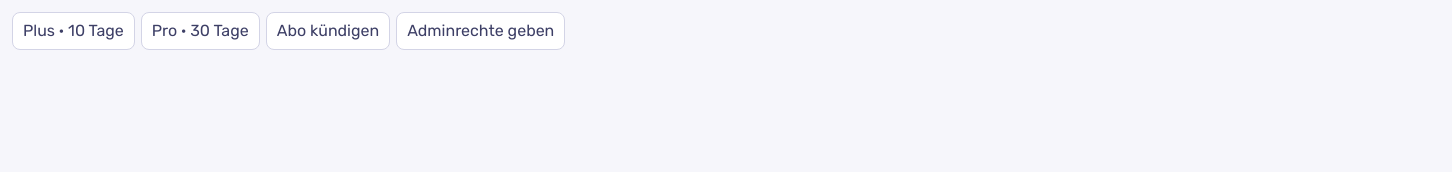
Scenario: admin confirmation — behavioral (render + interaction) › confirming sends EXACTLY ONE request with the right URL and body
Click the button "Abo kündigen". click: (328, 31)
box: [266,12,390,50]
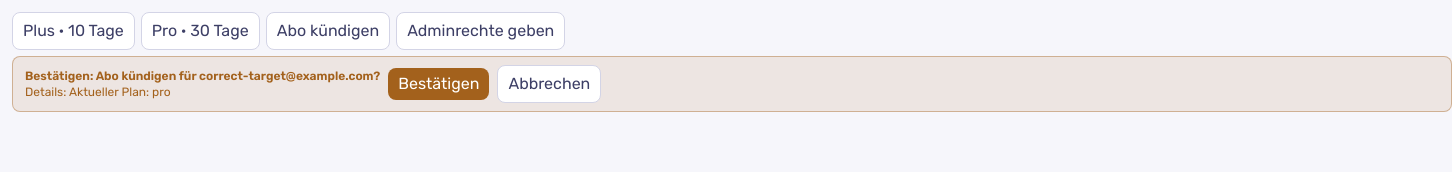
Result: the text "correct-target@example.com" is shown at [25,69,380,83]
Click the button "Bestätigen". click: (439, 84)
box: [388,68,490,100]
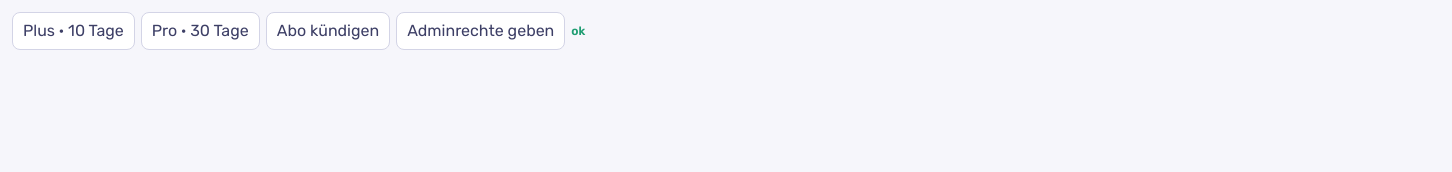
Result: the text "correct-target@example.com" is gone
